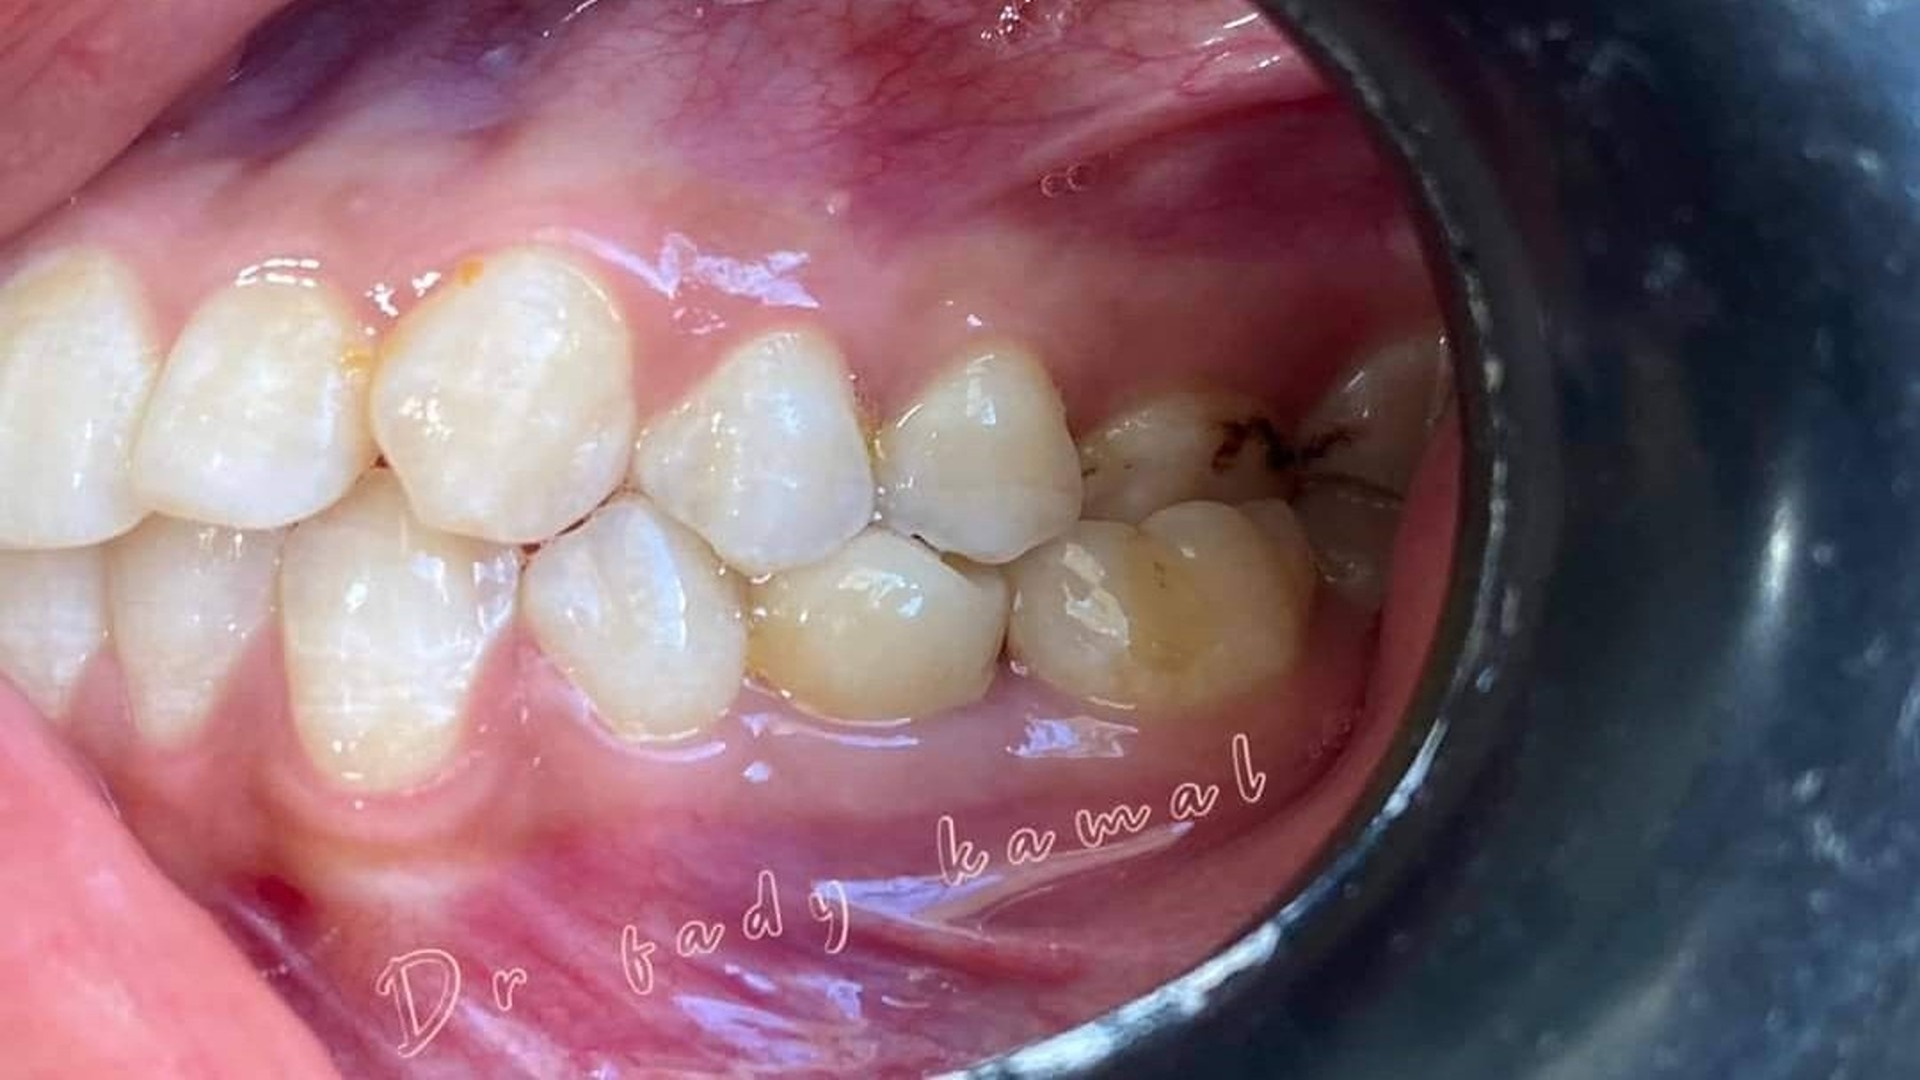tooth: (280, 468, 520, 806), (369, 247, 640, 543), (135, 260, 377, 527), (1007, 498, 1315, 709), (634, 327, 876, 578), (522, 498, 748, 742), (742, 522, 1010, 723), (1, 245, 164, 549), (872, 339, 1083, 564), (108, 514, 287, 752), (1077, 392, 1295, 525), (1, 545, 109, 719)
